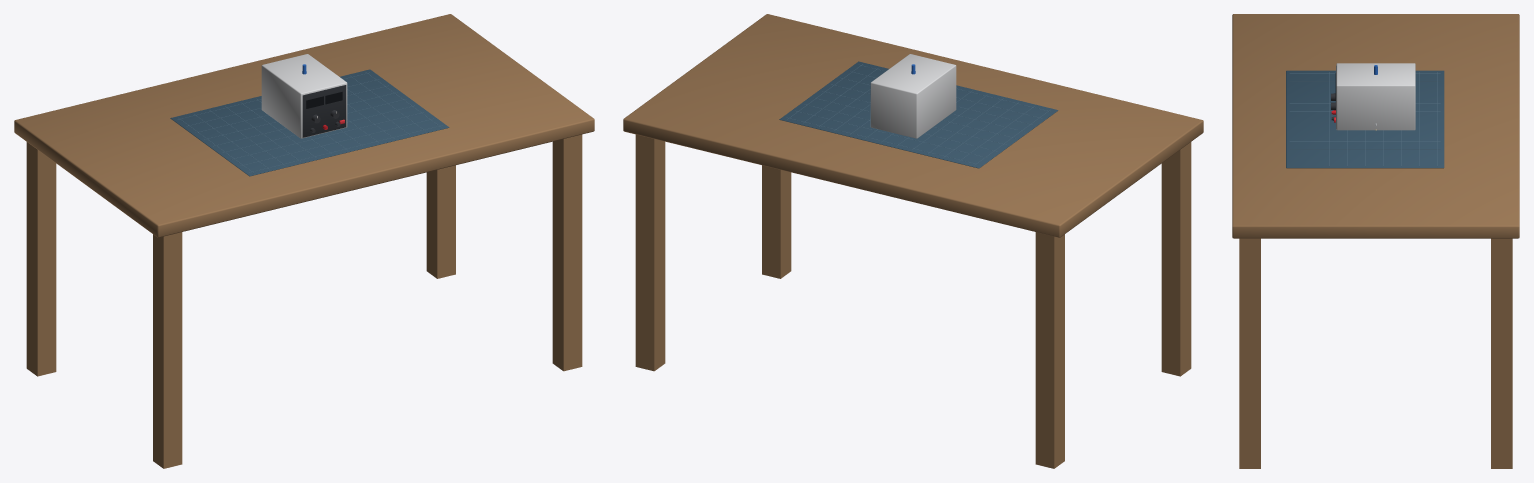
The model's file is parts.glb.
The picture shows the model from 3 angles, left to right: view 1: azimuth 30°, elevation 25°; view 2: azimuth 150°, elevation 25°; view 3: azimuth 270°, elevation 25°; orthographic projection.
Parts seen in each view (by area): view 1: env_bench_top, env_bench_mat, env_bench_leg11, env_bench_leg-11, env_bench_leg-1-1, tool_psu_case, env_bench_leg1-1, tool_psu_panel; view 2: env_bench_top, env_bench_mat, env_bench_leg1-1, env_bench_leg-1-1, env_bench_leg-11, tool_psu_case, env_bench_leg11; view 3: env_bench_top, env_bench_mat, tool_psu_case, env_bench_leg1-1, env_bench_leg11.
Part boxes in pixels (x1,y1,x2,y2): env_bench_top: (14, 14, 594, 237); env_bench_mat: (170, 69, 449, 176); env_bench_leg11: (552, 134, 582, 371); env_bench_leg-11: (153, 232, 182, 468); env_bench_leg-1-1: (26, 142, 56, 376); tool_psu_case: (261, 54, 347, 138); env_bench_leg1-1: (426, 165, 455, 278); tool_psu_panel: (302, 85, 346, 137); env_bench_top: (623, 14, 1203, 237); env_bench_mat: (779, 61, 1058, 168); env_bench_leg1-1: (635, 134, 665, 371); env_bench_leg-1-1: (1035, 232, 1064, 468); env_bench_leg-11: (1161, 142, 1191, 376); tool_psu_case: (870, 54, 956, 138); env_bench_leg11: (762, 165, 791, 278); env_bench_top: (1232, 14, 1519, 238); env_bench_mat: (1286, 70, 1444, 168); tool_psu_case: (1336, 63, 1415, 130); env_bench_leg1-1: (1491, 238, 1512, 468); env_bench_leg11: (1239, 238, 1260, 468).
Size of the model in its own units: 1400 by 926 by 800.
